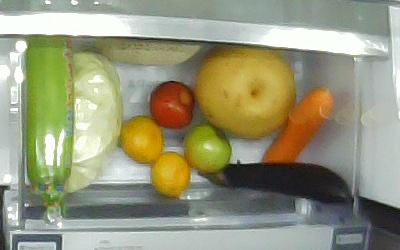cabbage: (65, 49, 122, 194)
carrot: (259, 88, 333, 163)
eggplant: (196, 162, 353, 205)
melon: (88, 37, 204, 69)
pear: (197, 43, 296, 139)
prune: (147, 80, 196, 130)
tangerine: (119, 116, 164, 163), (149, 151, 192, 197)
tomato: (183, 123, 232, 173)
zucchini: (24, 36, 74, 229)
